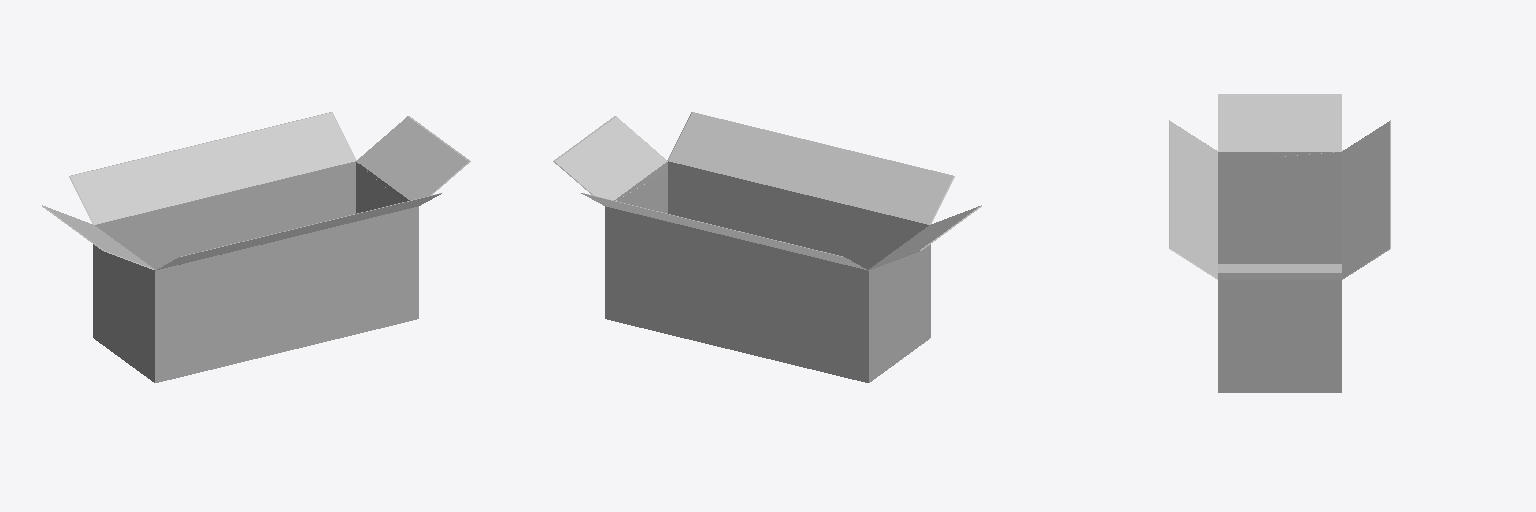
Rendered from Cardboard box2.obj.
The picture shows the model from 3 angles: view 1: azimuth 30°, elevation 25°; view 2: azimuth 150°, elevation 25°; view 3: azimuth 270°, elevation 25°; orthographic projection.
Visible parts, largest first — view 1: pCube1.002; view 2: pCube1.002; view 3: pCube1.002.
Boxes of the visible parts, x1=… form: pCube1.002: x1=42, y1=112, x2=470, y2=382; pCube1.002: x1=553, y1=112, x2=981, y2=382; pCube1.002: x1=1169, y1=94, x2=1390, y2=392.
Bounding box in the file's own units: 3.42 × 1.29 × 1.78.